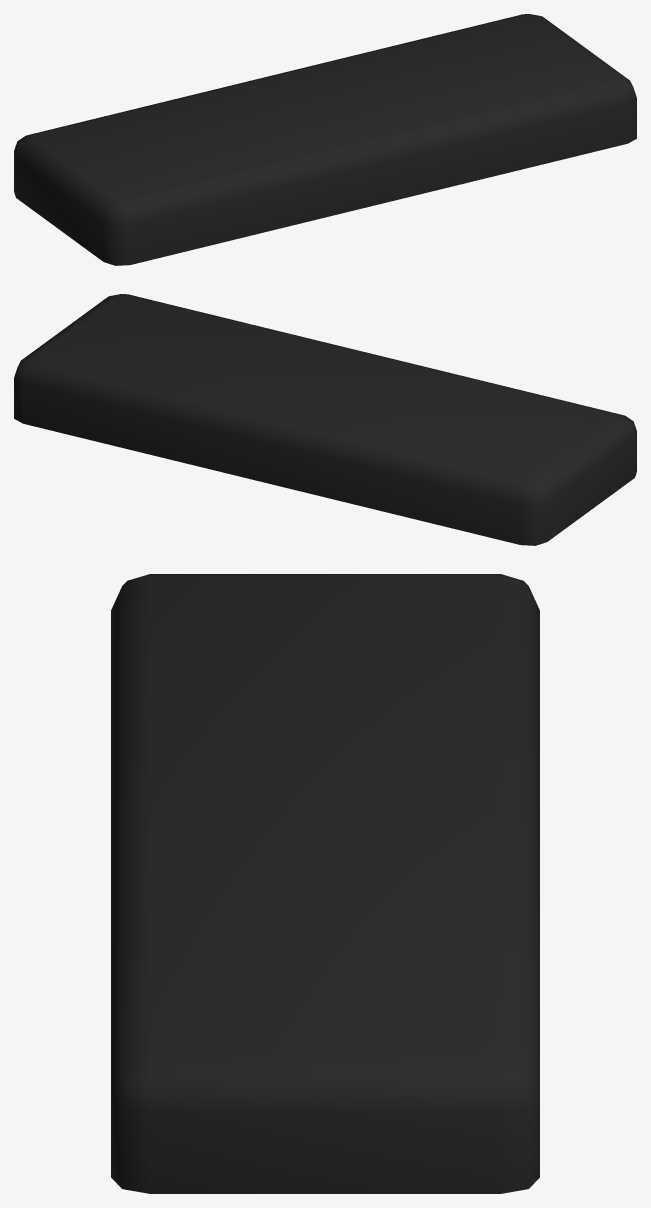
Rendered from button_rectangle_black.glb.
3 views of the same model, one above another, from view 1: azimuth 30°, elevation 25°; view 2: azimuth 150°, elevation 25°; view 3: azimuth 270°, elevation 25° (orthographic). The views are drawn at different scales.
Visible parts, largest first — view 1: Cube.018; view 2: Cube.018; view 3: Cube.018.
Boxes of the visible parts, x1=… form: Cube.018: x1=14, y1=14, x2=636, y2=265; Cube.018: x1=14, y1=294, x2=636, y2=545; Cube.018: x1=111, y1=574, x2=539, y2=1193.
Size of what is drawn, in the model's own units: 0.3845 by 0.0403 by 0.1345.
Materials: 1 (1 with a texture image).
